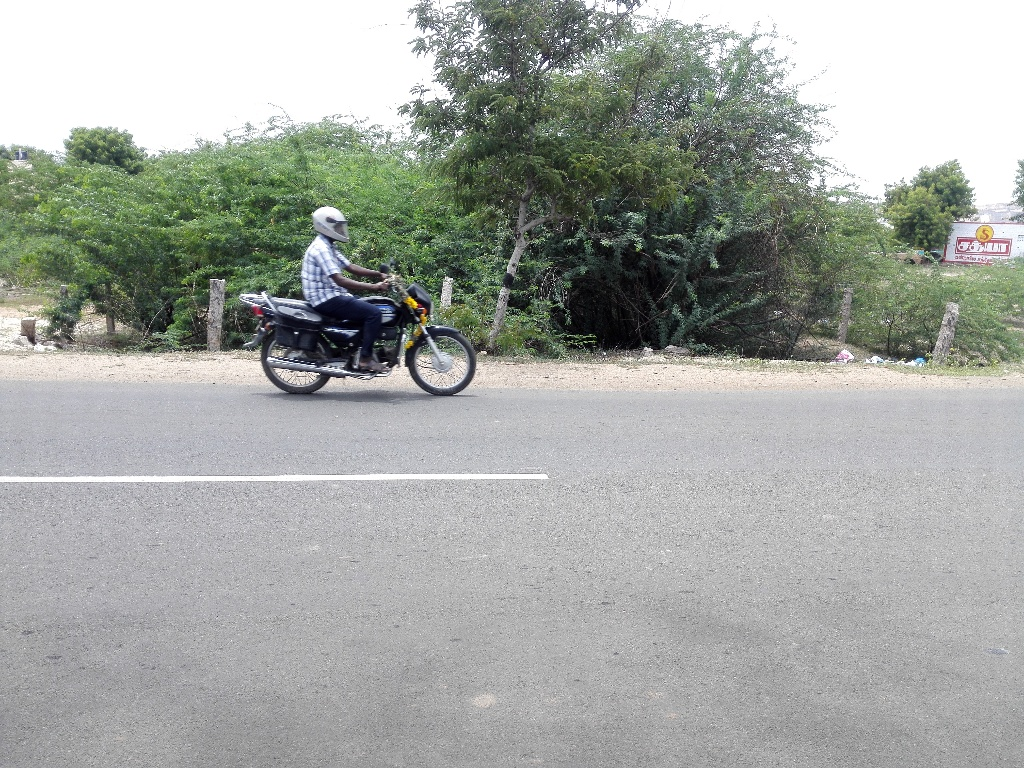biker: (221, 167, 505, 420)
helmet: (305, 198, 358, 258)
